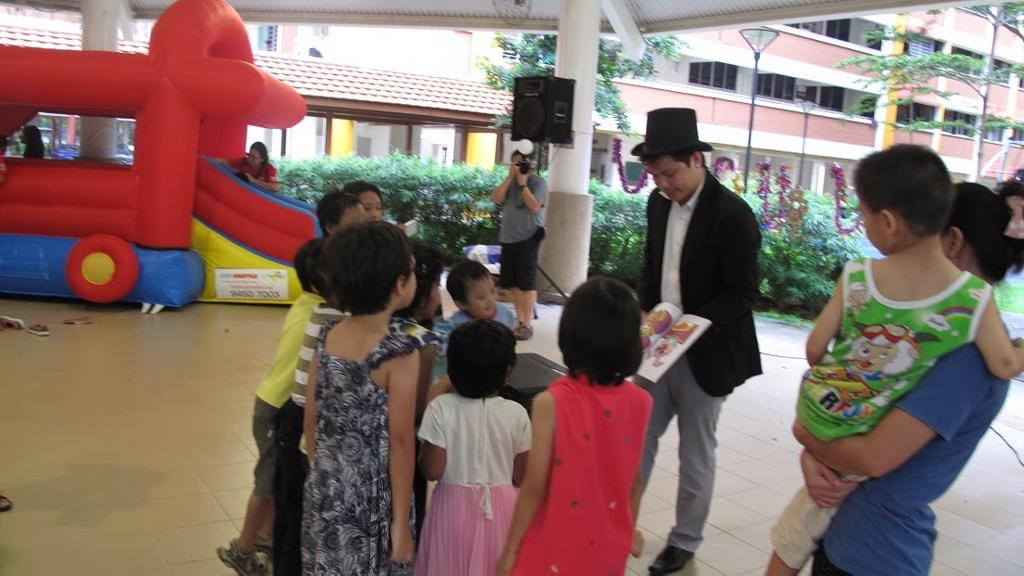face: (858, 183, 899, 253), (648, 154, 695, 200), (388, 257, 417, 306), (464, 274, 497, 315), (335, 203, 365, 241), (419, 269, 441, 315), (355, 191, 381, 226), (513, 154, 531, 175), (249, 146, 261, 165), (20, 130, 29, 143)
